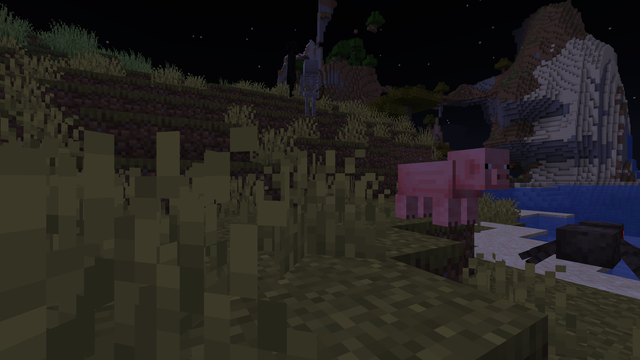araignees: (529, 213, 635, 286)
cochons: (393, 158, 483, 228)
endermens: (284, 37, 299, 97)
squelettes: (299, 57, 320, 117)
